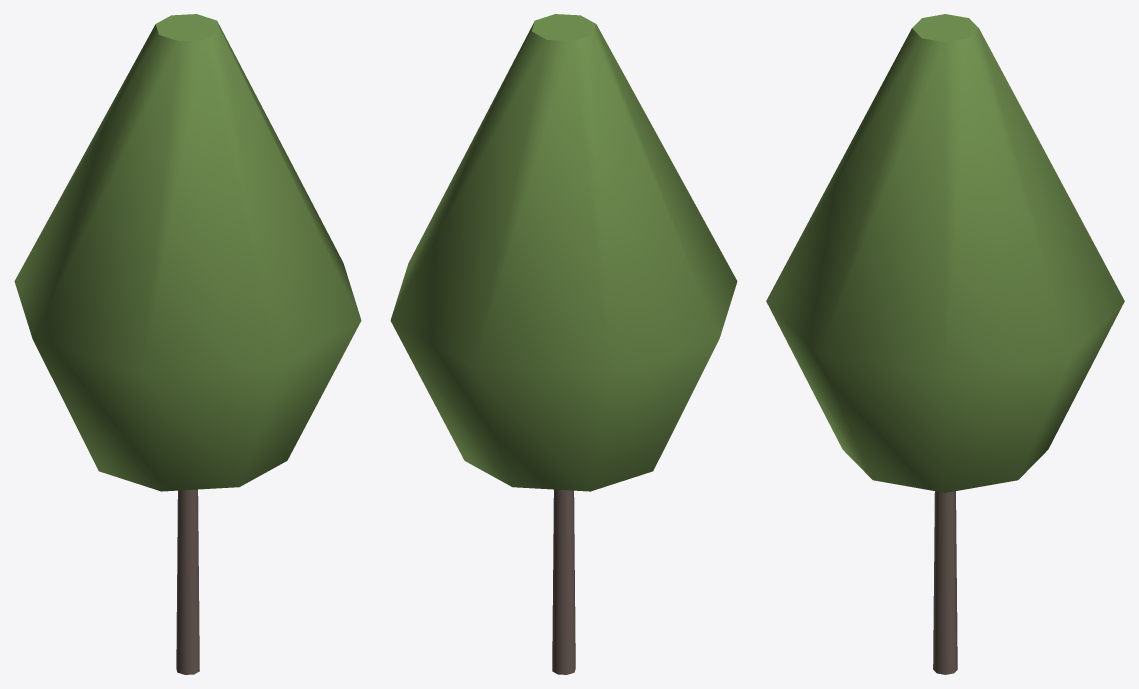
Rendered from tree_min.glb.
3 views of the same model, side by side, from view 1: azimuth 30°, elevation 25°; view 2: azimuth 150°, elevation 25°; view 3: azimuth 270°, elevation 25° (orthographic).
Parts seen in each view (by area): view 1: Cylinder002; view 2: Cylinder002; view 3: Cylinder002.
Part boxes in pixels (bbox=[...]): Cylinder002: bbox=[14, 14, 361, 674]; Cylinder002: bbox=[390, 14, 737, 674]; Cylinder002: bbox=[766, 14, 1124, 674].
Size of the model in its own units: 3.77 by 7.44 by 3.77.
